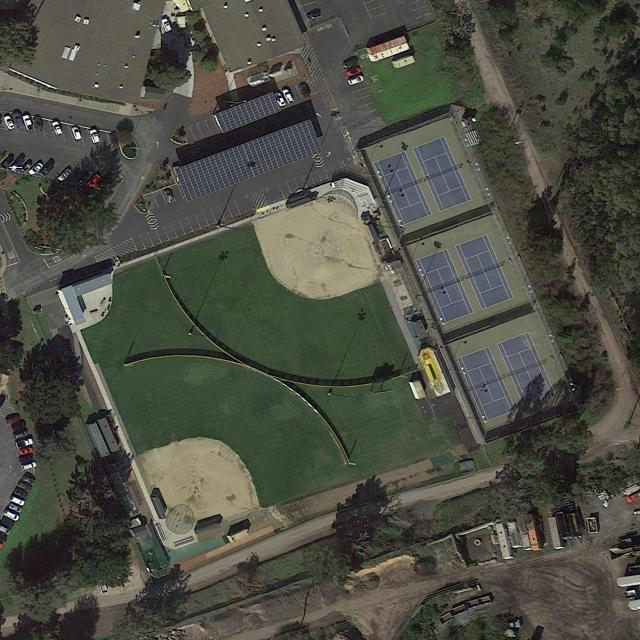small-vehicle: (9, 156, 27, 174), (15, 437, 35, 450), (86, 173, 102, 188), (57, 168, 73, 183), (27, 162, 43, 177), (39, 163, 55, 178), (18, 160, 34, 175), (3, 509, 20, 523), (20, 475, 38, 488), (273, 91, 287, 107), (3, 114, 16, 131), (345, 66, 362, 79), (12, 114, 25, 131), (305, 10, 323, 22), (347, 74, 365, 86), (342, 58, 360, 70), (281, 88, 294, 104), (12, 488, 28, 501), (22, 114, 34, 131), (9, 495, 26, 507), (5, 414, 22, 426), (16, 481, 33, 493), (160, 18, 173, 33), (299, 84, 311, 100), (51, 121, 63, 136), (12, 421, 27, 433), (71, 126, 82, 142), (89, 128, 100, 144), (21, 461, 38, 471), (8, 503, 23, 514), (164, 190, 175, 205), (14, 430, 29, 441), (18, 446, 33, 456), (34, 116, 43, 131)
